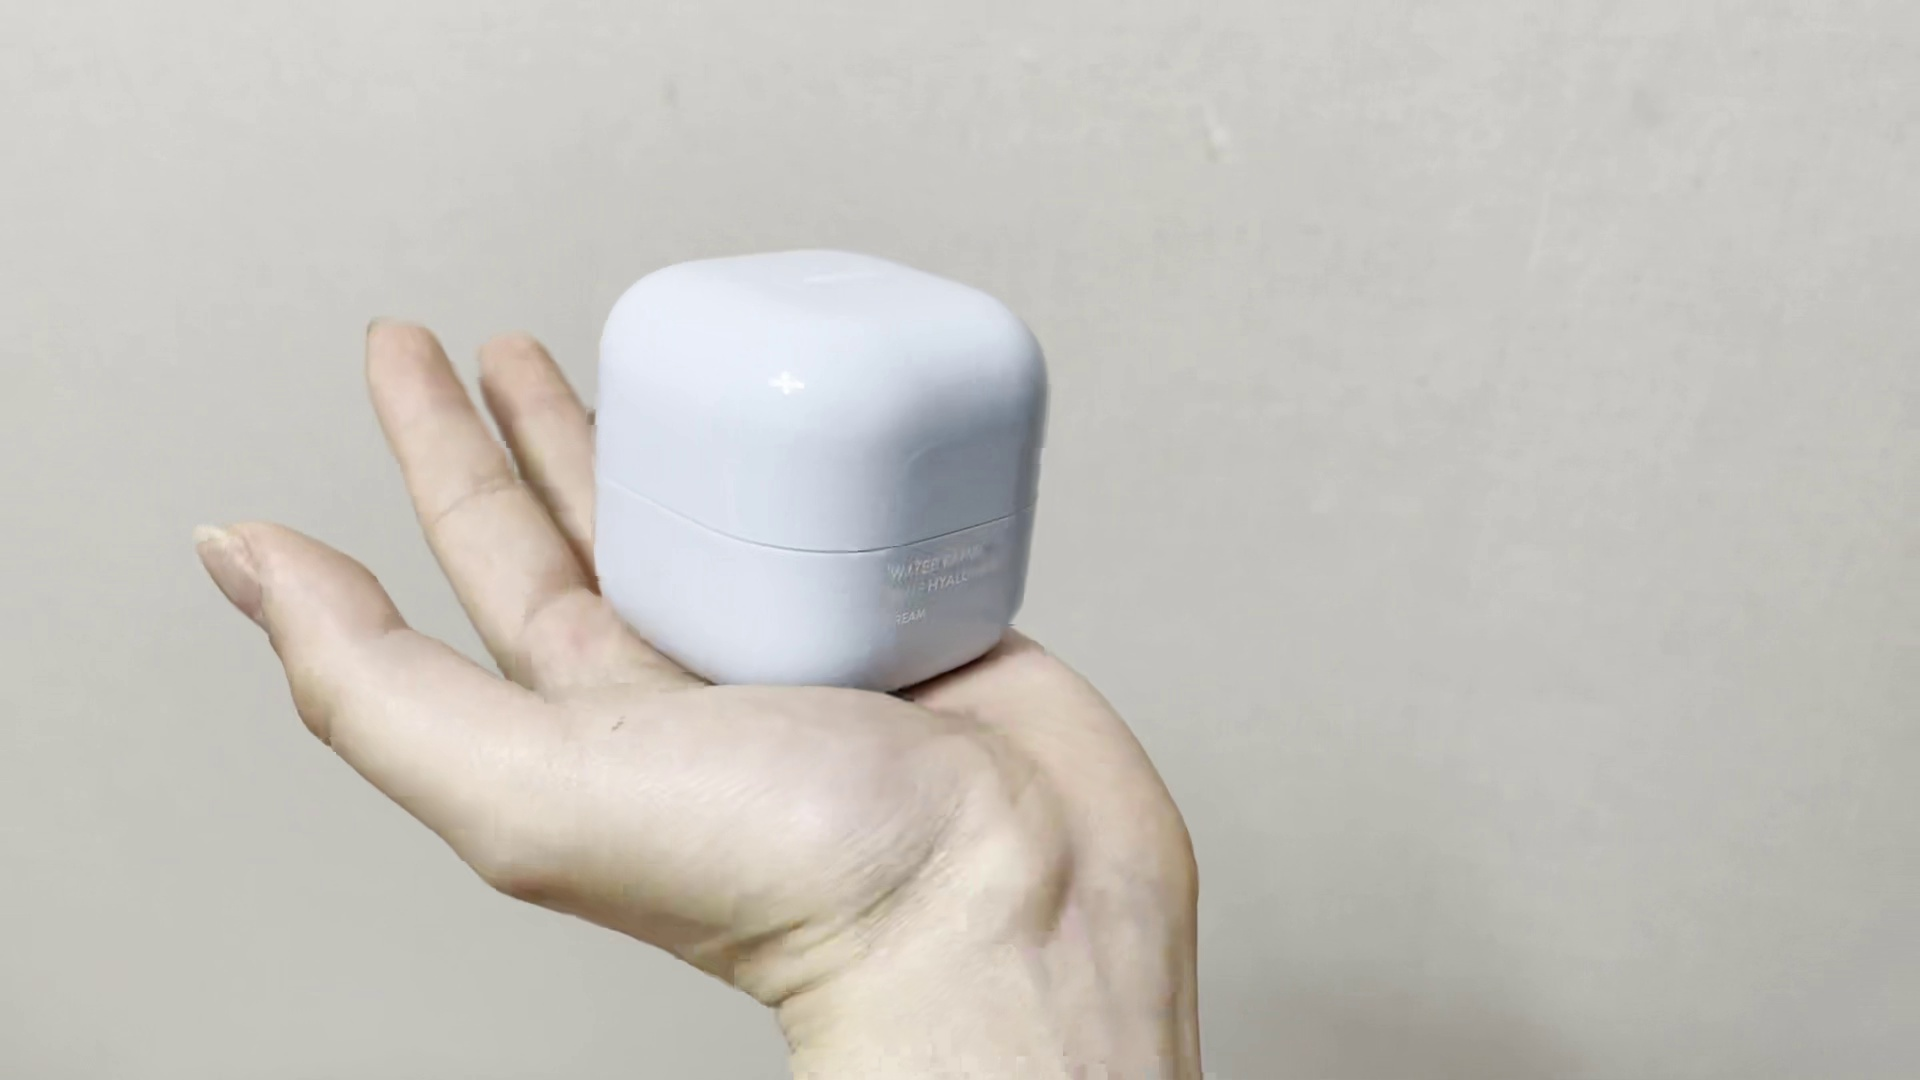cream: (589, 235, 1048, 694)
